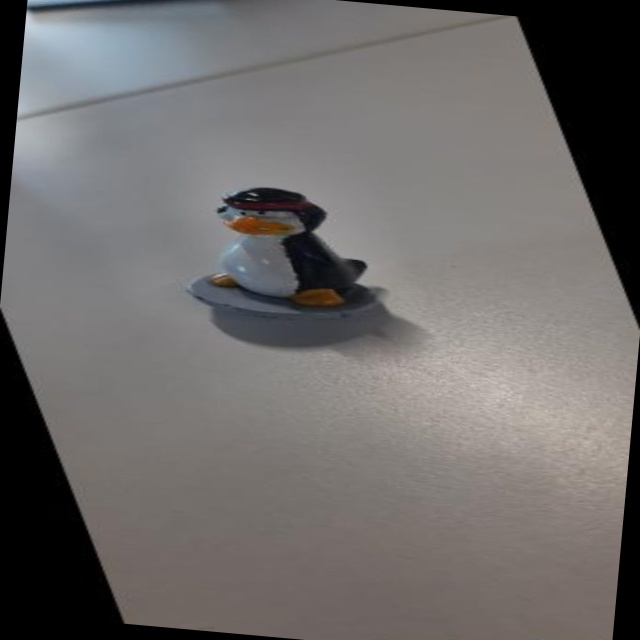Penguin: (130, 157, 428, 354)
